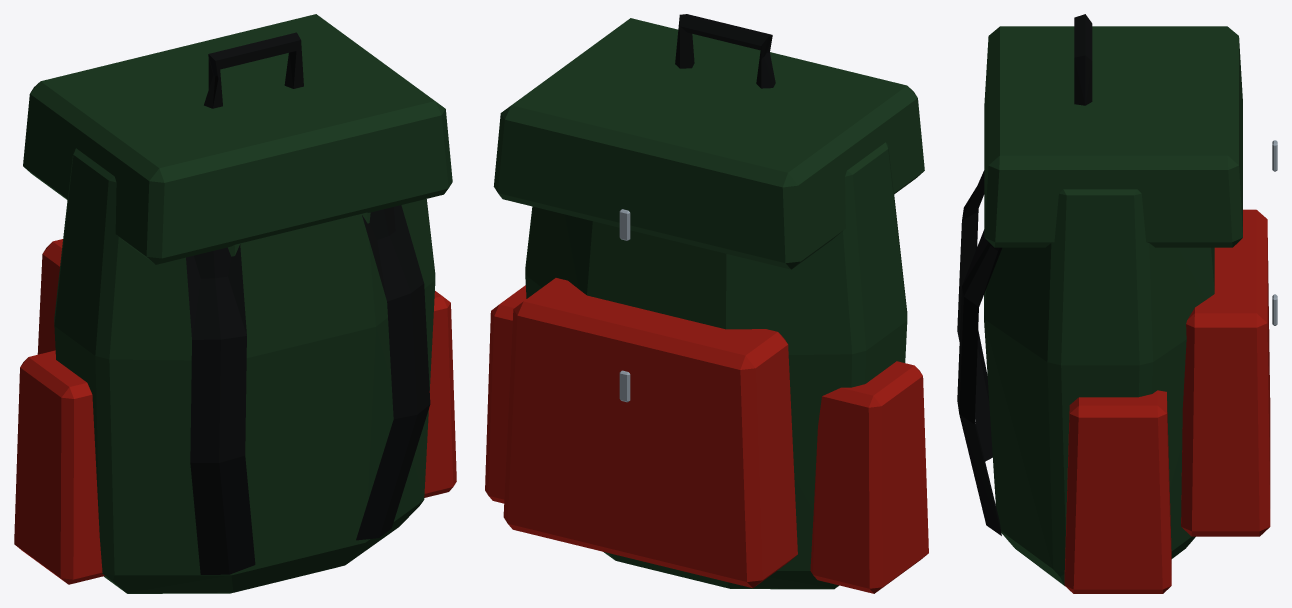
The model's file is ACCESSORY_02_Backpack.obj.
3 renders of one model, left to right at view 1: azimuth 30°, elevation 25°; view 2: azimuth 150°, elevation 25°; view 3: azimuth 270°, elevation 25°, orthographic. The views are drawn at different scales.
Visible parts, largest first — view 1: ACCESSORY_02_Backpack_Body, ACCESSORY_02_Backpack_Top_Flap, ACCESSORY_02_Backpack_Straps, ACCESSORY_02_Backpack_Side_Pockets, ACCESSORY_02_Backpack_Handle, ACCESSORY_02_Backpack_Front_Pocket; view 2: ACCESSORY_02_Backpack_Front_Pocket, ACCESSORY_02_Backpack_Top_Flap, ACCESSORY_02_Backpack_Body, ACCESSORY_02_Backpack_Side_Pockets, ACCESSORY_02_Backpack_Handle, ACCESSORY_02_Backpack_Zip_Pulls; view 3: ACCESSORY_02_Backpack_Body, ACCESSORY_02_Backpack_Top_Flap, ACCESSORY_02_Backpack_Front_Pocket, ACCESSORY_02_Backpack_Side_Pockets, ACCESSORY_02_Backpack_Straps, ACCESSORY_02_Backpack_Handle.
Boxes of the visible parts, box(x1,y1,x2,y2) form: ACCESSORY_02_Backpack_Body: box(54, 148, 435, 593); ACCESSORY_02_Backpack_Top_Flap: box(23, 14, 452, 264); ACCESSORY_02_Backpack_Straps: box(186, 205, 430, 574); ACCESSORY_02_Backpack_Side_Pockets: box(14, 291, 456, 584); ACCESSORY_02_Backpack_Handle: box(204, 32, 303, 108); ACCESSORY_02_Backpack_Front_Pocket: box(37, 239, 62, 354); ACCESSORY_02_Backpack_Front_Pocket: box(503, 278, 797, 588); ACCESSORY_02_Backpack_Top_Flap: box(493, 18, 924, 269); ACCESSORY_02_Backpack_Body: box(525, 142, 907, 589); ACCESSORY_02_Backpack_Side_Pockets: box(485, 285, 928, 593); ACCESSORY_02_Backpack_Handle: box(675, 14, 775, 88); ACCESSORY_02_Backpack_Zip_Pulls: box(619, 209, 630, 402); ACCESSORY_02_Backpack_Body: box(984, 189, 1214, 585); ACCESSORY_02_Backpack_Top_Flap: box(984, 26, 1242, 247); ACCESSORY_02_Backpack_Front_Pocket: box(1181, 209, 1270, 536); ACCESSORY_02_Backpack_Side_Pockets: box(1064, 390, 1171, 593); ACCESSORY_02_Backpack_Straps: box(957, 170, 1001, 535); ACCESSORY_02_Backpack_Handle: box(1074, 14, 1092, 105).
Bounding box in the file's own units: 0.4896 × 0.6094 × 0.3577.
